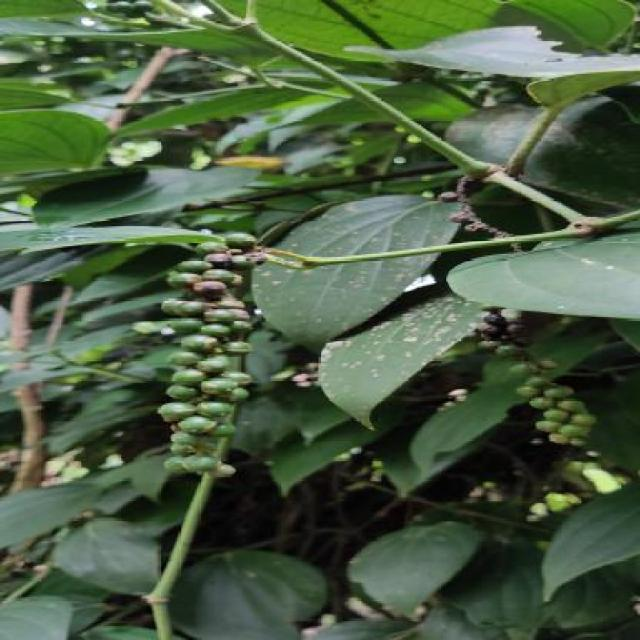UNRIPE: (159, 232, 250, 477), (518, 359, 593, 444), (99, 1, 162, 16)
